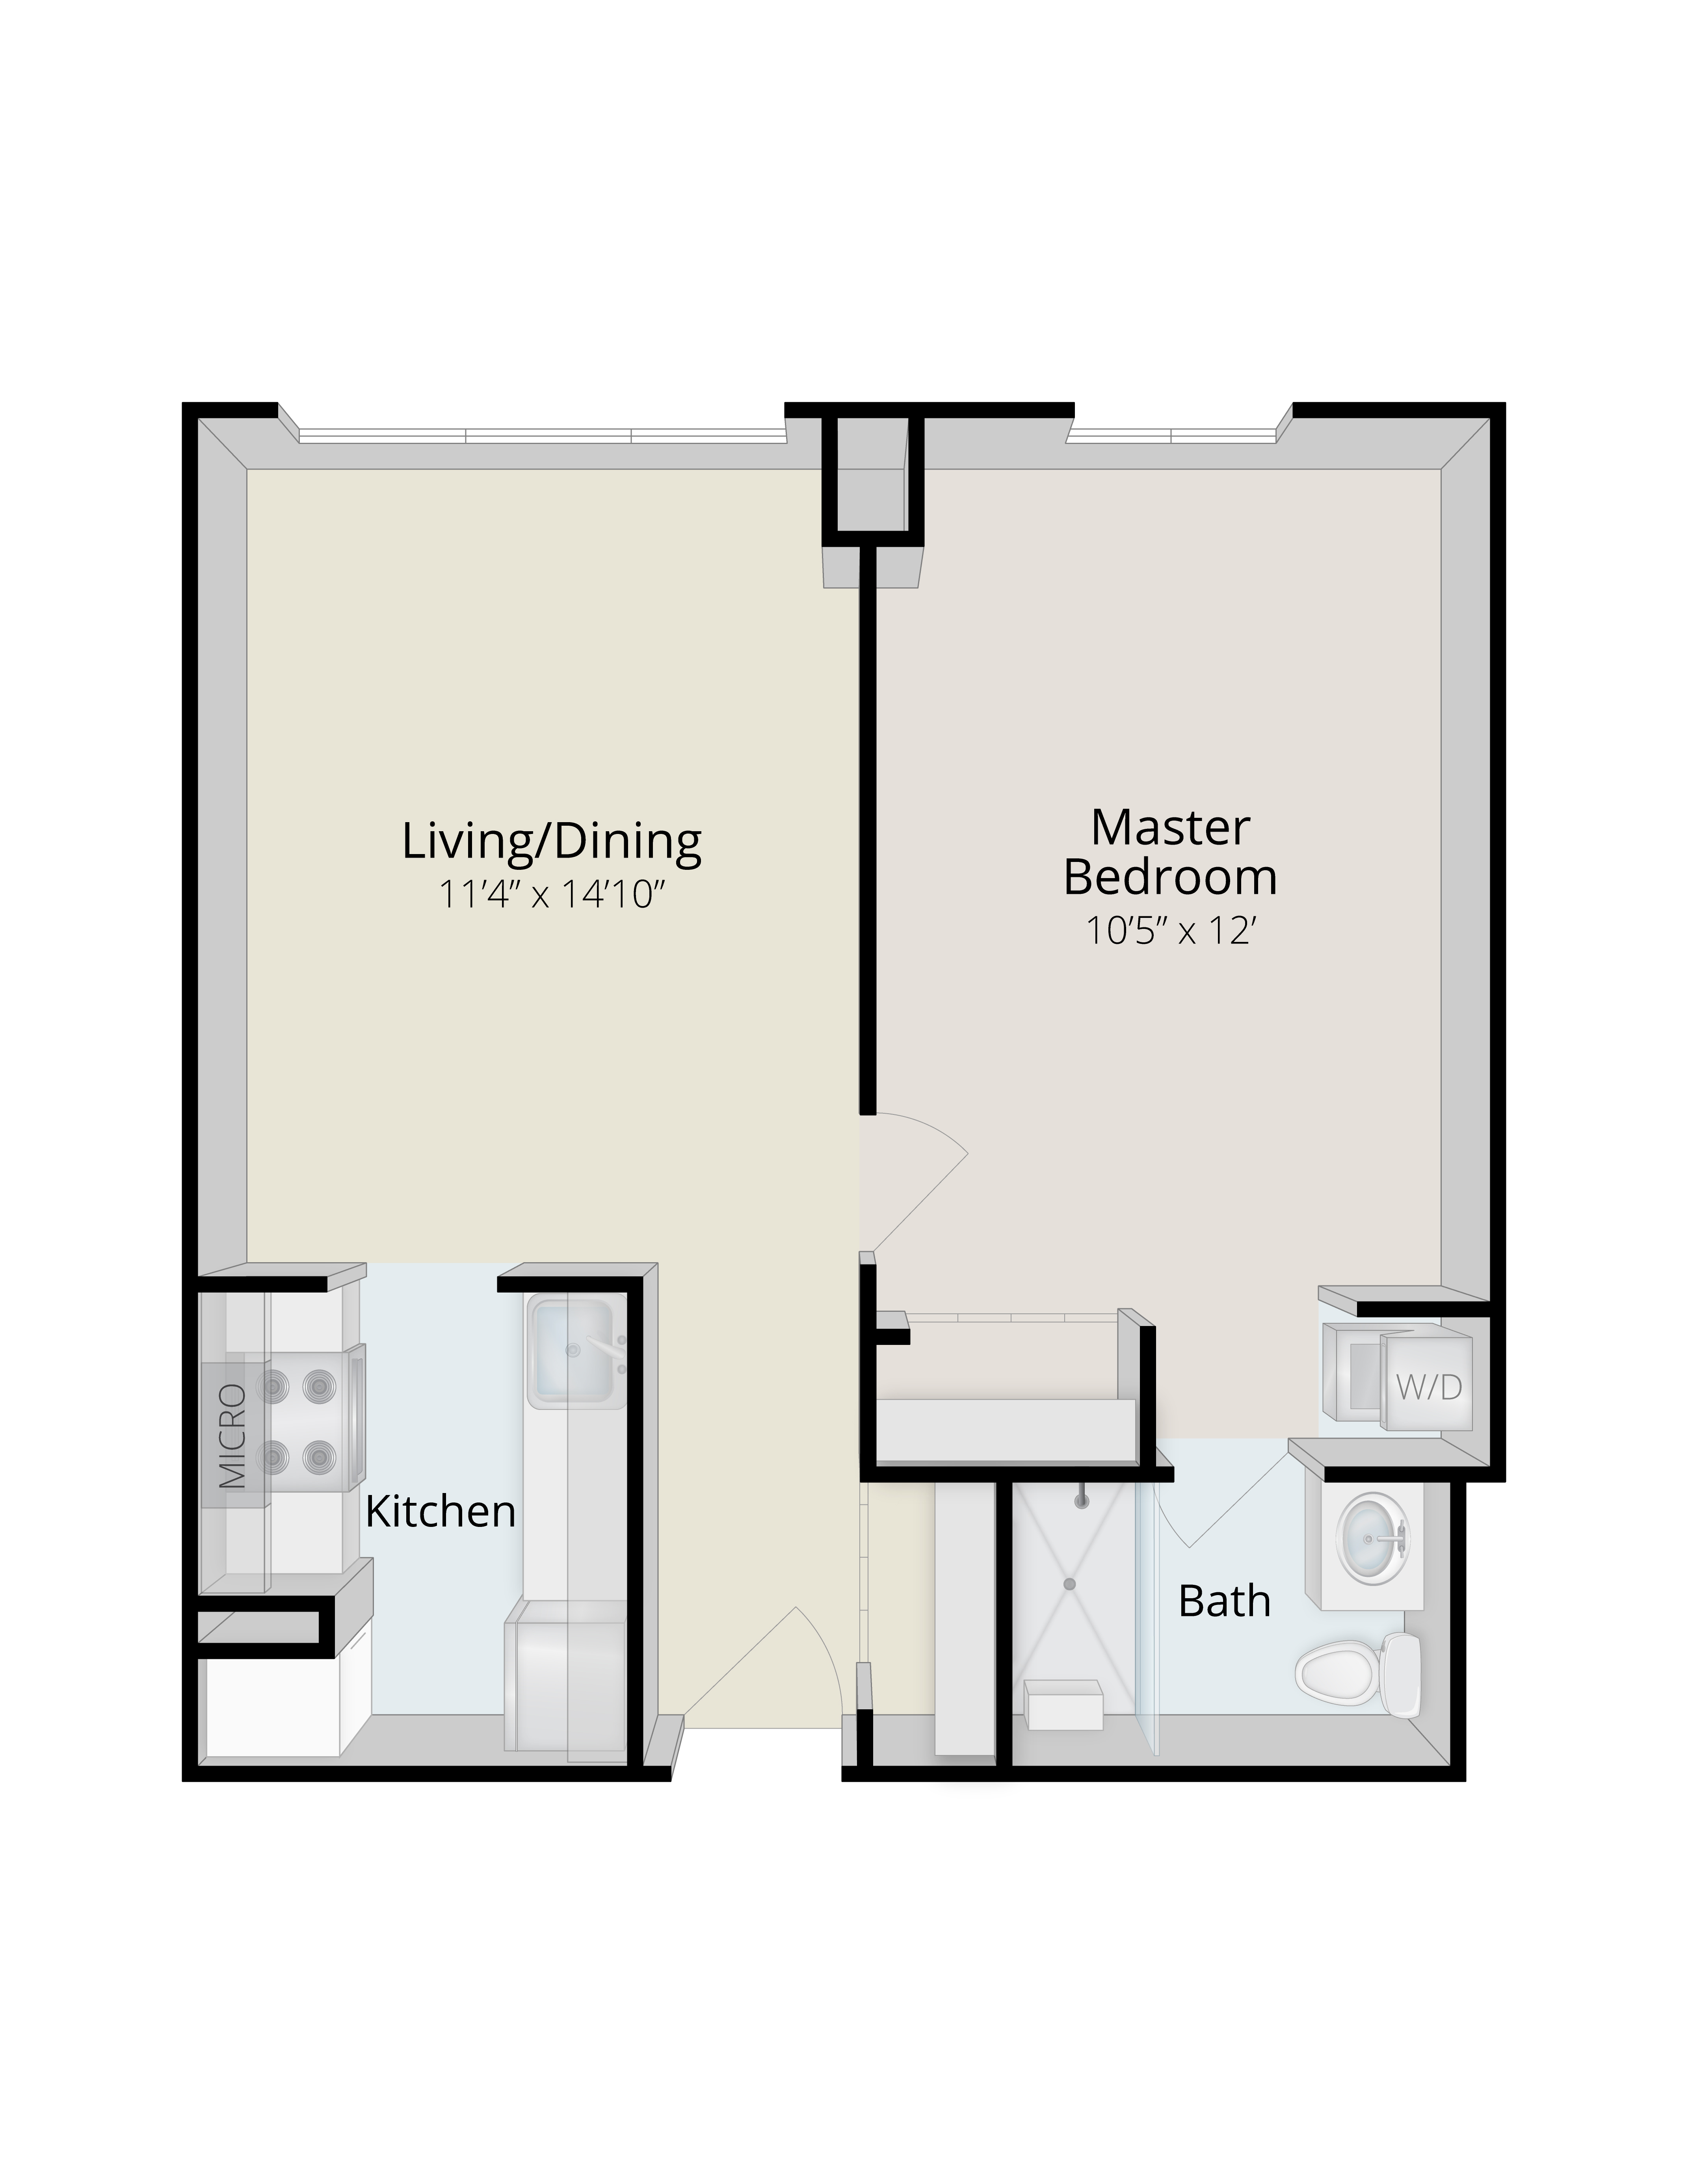wall: (864, 1766, 1457, 1776), (186, 408, 190, 1769), (796, 397, 1071, 411), (1497, 404, 1500, 1464), (207, 1766, 663, 1773), (1289, 394, 1475, 408), (864, 551, 867, 1113), (1330, 1457, 1509, 1468), (878, 1475, 1165, 1478), (871, 1267, 874, 1482), (1340, 1306, 1505, 1310), (200, 401, 273, 408), (193, 1282, 323, 1285), (512, 1285, 638, 1289)
